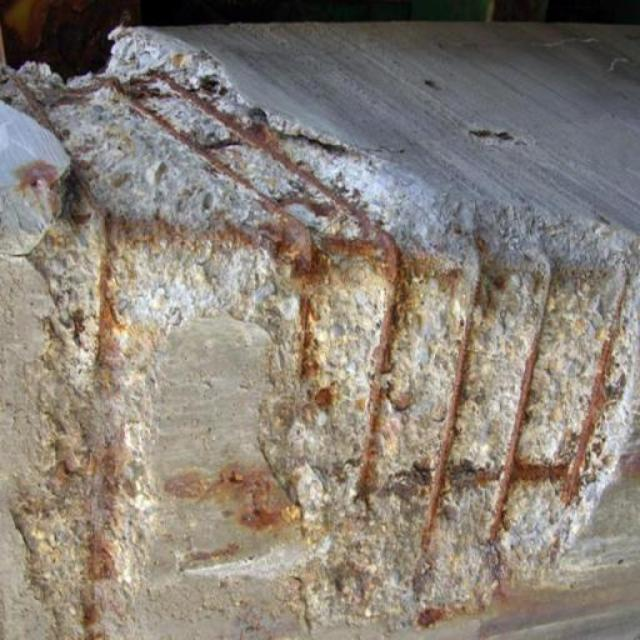D0w0: (6, 30, 639, 633)
